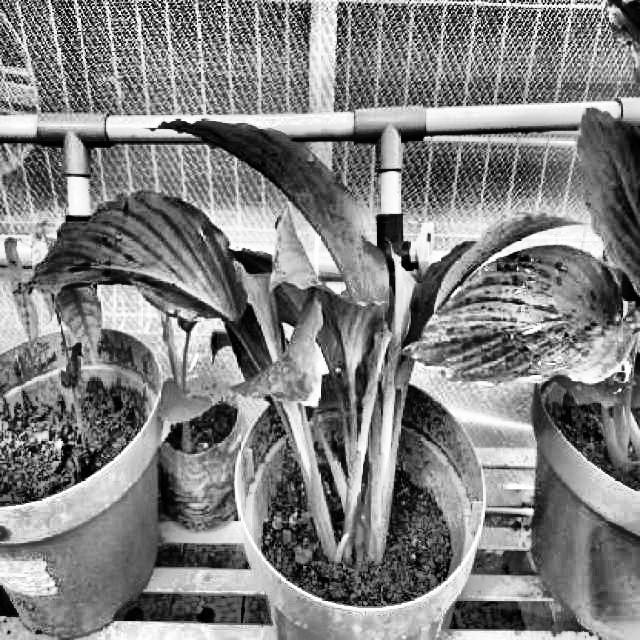plants: (18, 118, 557, 570), (406, 3, 639, 471)
